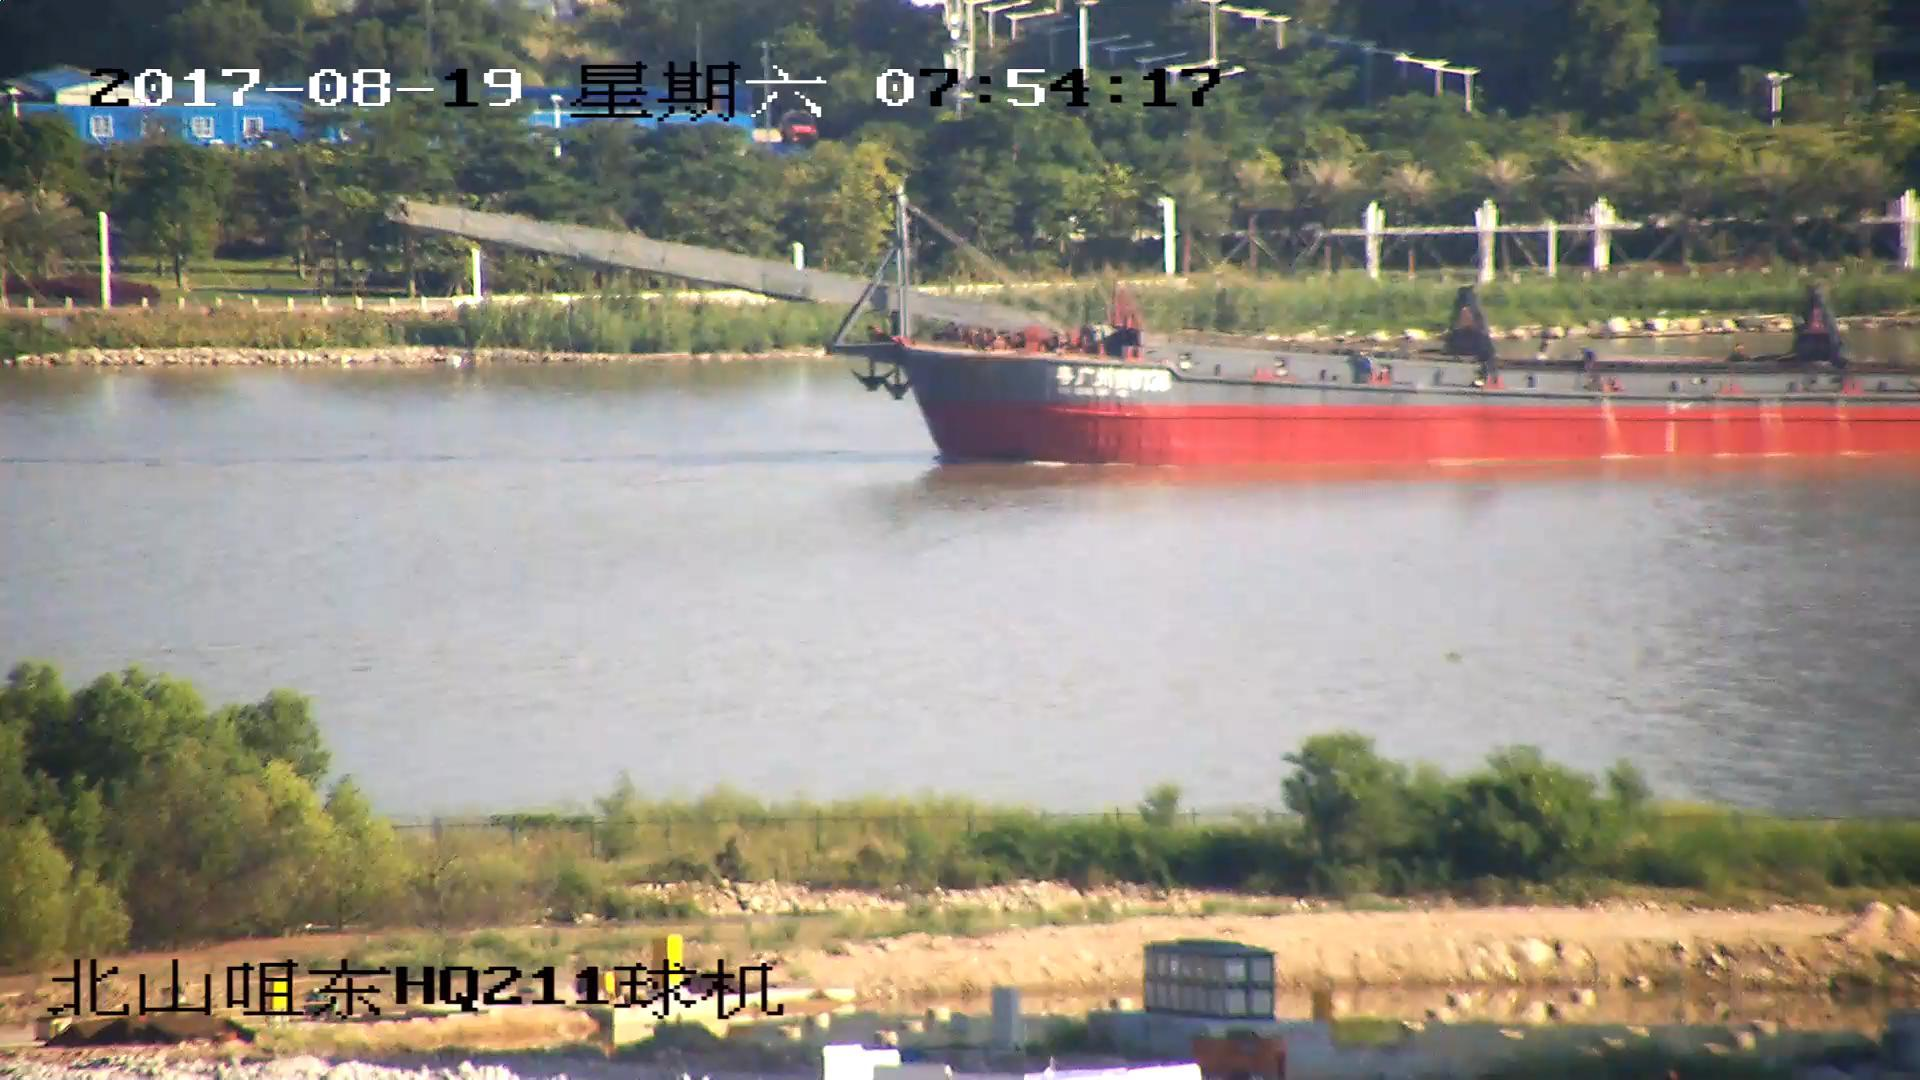Ship: (398, 198, 1920, 471)
